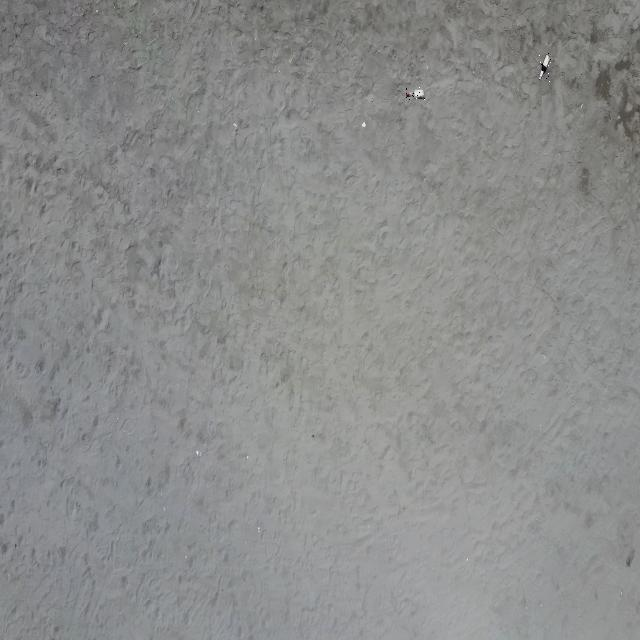glass: (540, 53, 552, 82), (406, 87, 425, 100)
